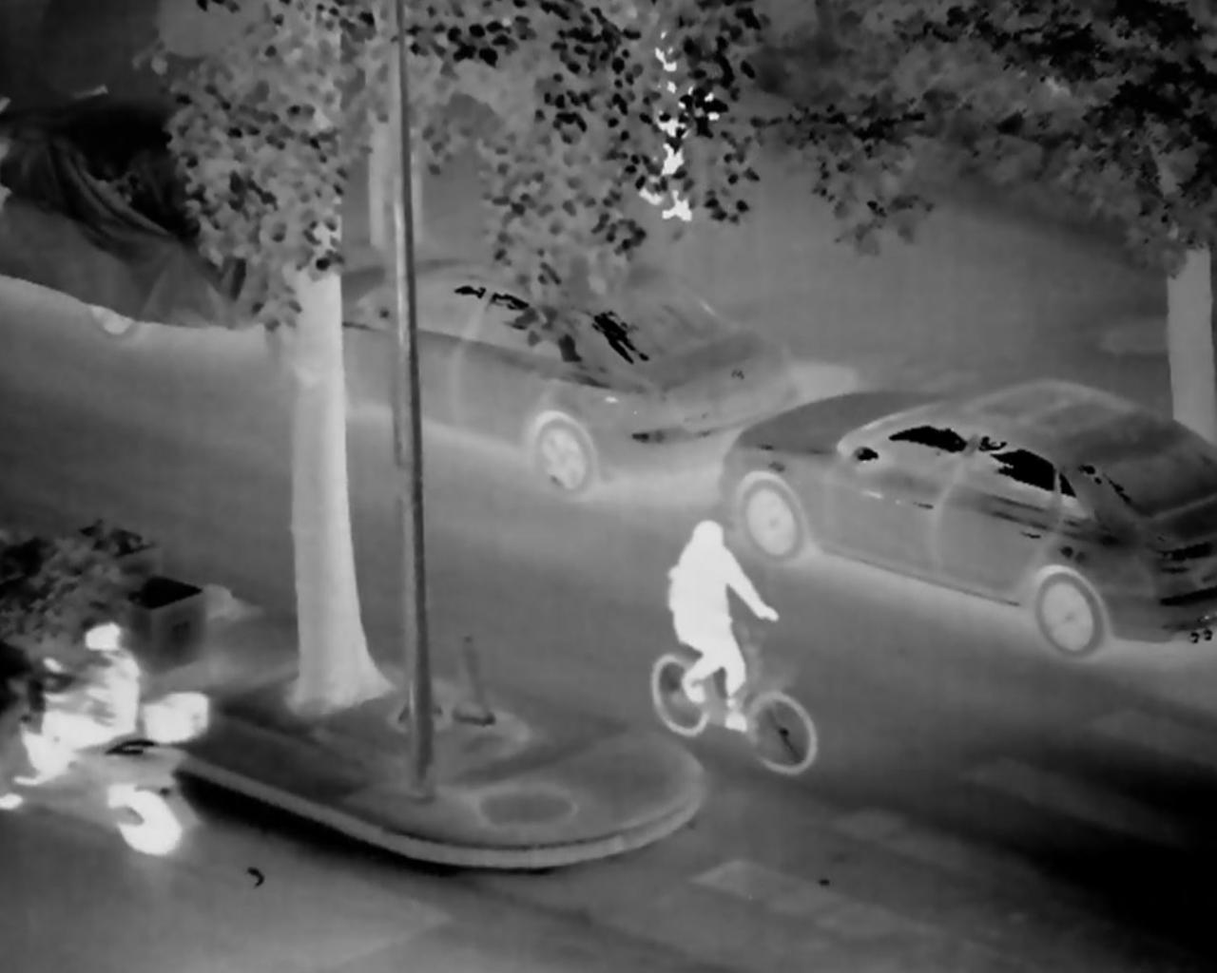person: (2, 597, 177, 840), (658, 513, 770, 745), (638, 27, 723, 219)
